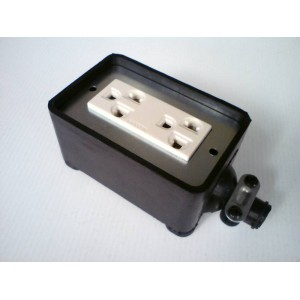Three_eye_plug: (43, 49, 277, 245)
